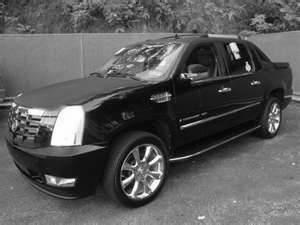car: (7, 32, 294, 213)
